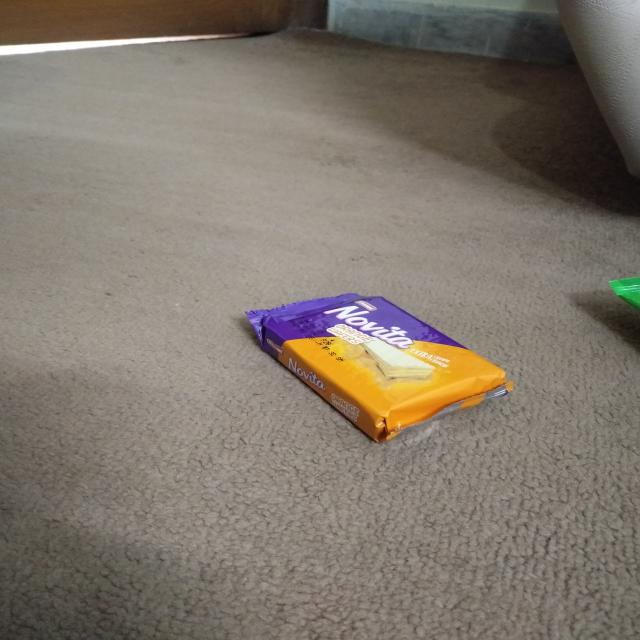Plastic: (235, 285, 526, 447)
